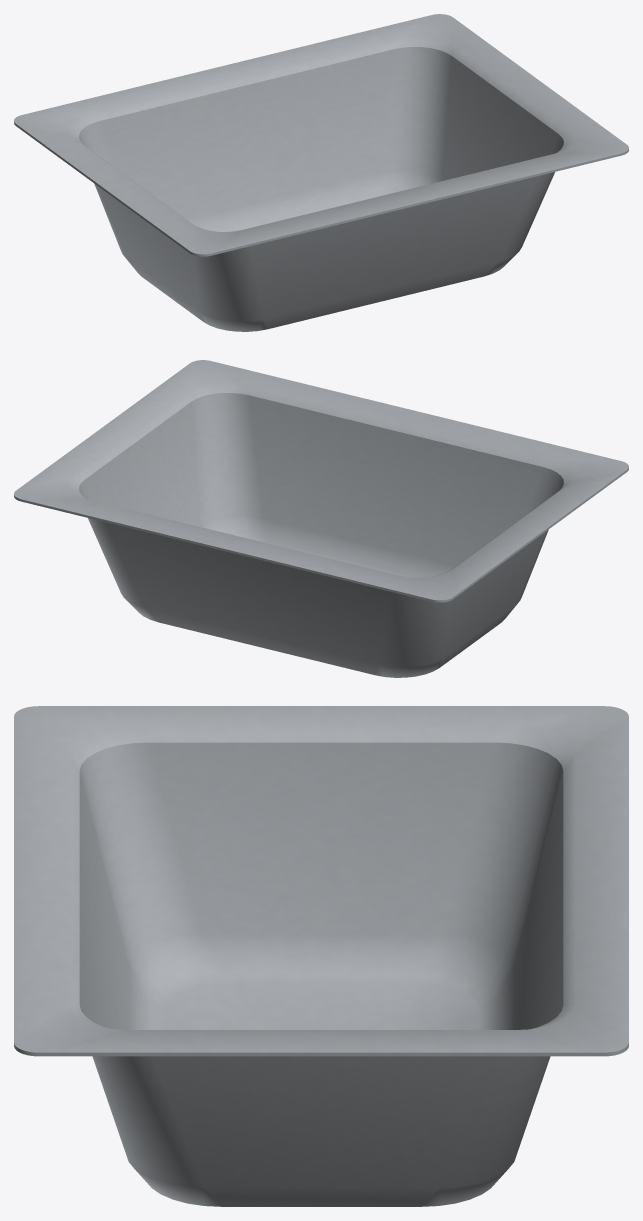
Rendered from pia_cozinha_realista.glb.
3 views of the same model, one above another, from view 1: azimuth 30°, elevation 25°; view 2: azimuth 150°, elevation 25°; view 3: azimuth 270°, elevation 25° (orthographic). The views are drawn at different scales.
Parts seen in each view (by area): view 1: Cozinha_Pia_Cuba.001; view 2: Cozinha_Pia_Cuba.001; view 3: Cozinha_Pia_Cuba.001.
Part boxes in pixels (x1,y1,x2,y2): Cozinha_Pia_Cuba.001: [14, 14, 628, 331]; Cozinha_Pia_Cuba.001: [14, 360, 628, 677]; Cozinha_Pia_Cuba.001: [14, 706, 628, 1206].
Size of the model in its own units: 0.6 by 0.177 by 0.45.
1 material, 1 textured.
